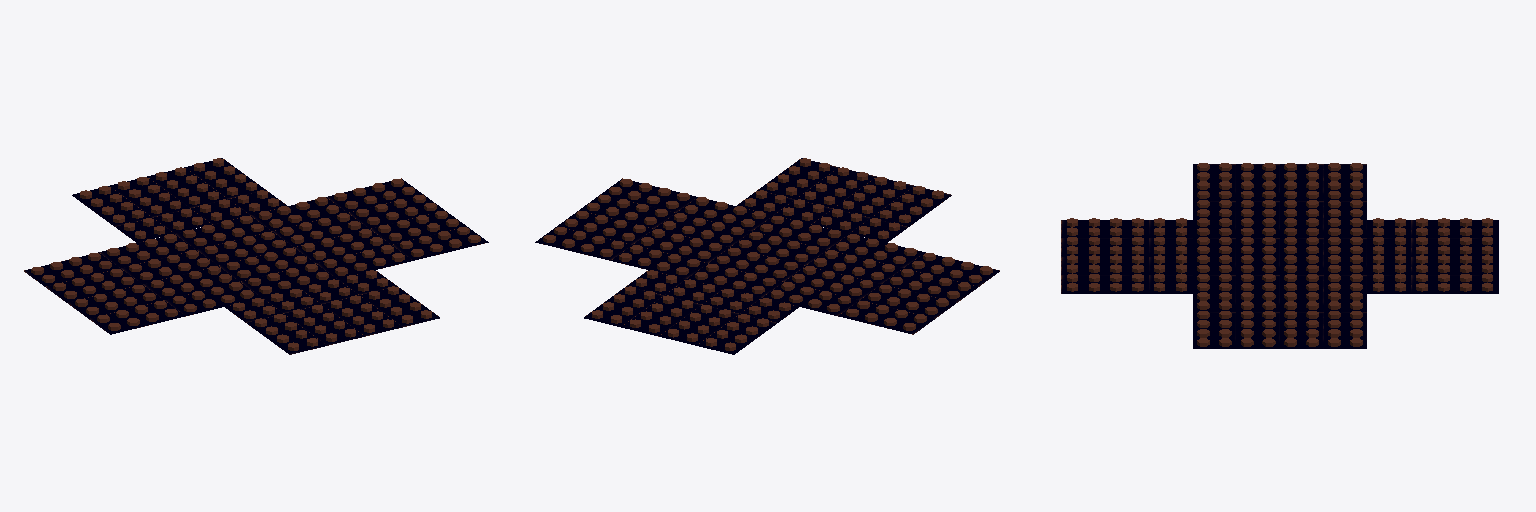
3 views of the same model, side by side, from view 1: azimuth 30°, elevation 25°; view 2: azimuth 150°, elevation 25°; view 3: azimuth 270°, elevation 25° (orthographic).
Parts seen in each view (by area): view 1: Cube.000_Cube.003, Cube.001_Cube.000; view 2: Cube.000_Cube.003, Cube.001_Cube.000; view 3: Cube.000_Cube.003, Cube.001_Cube.000.
Boxes of the visible parts, x1=… form: Cube.000_Cube.003: x1=24, y1=178, x2=488, y2=334; Cube.001_Cube.000: x1=72, y1=158, x2=439, y2=354; Cube.000_Cube.003: x1=535, y1=178, x2=999, y2=334; Cube.001_Cube.000: x1=584, y1=158, x2=951, y2=354; Cube.000_Cube.003: x1=1193, y1=163, x2=1366, y2=348; Cube.001_Cube.000: x1=1061, y1=218, x2=1498, y2=293.
Size of the model in its own units: 20 by 0.3016 by 20.
2 materials, 1 textured.